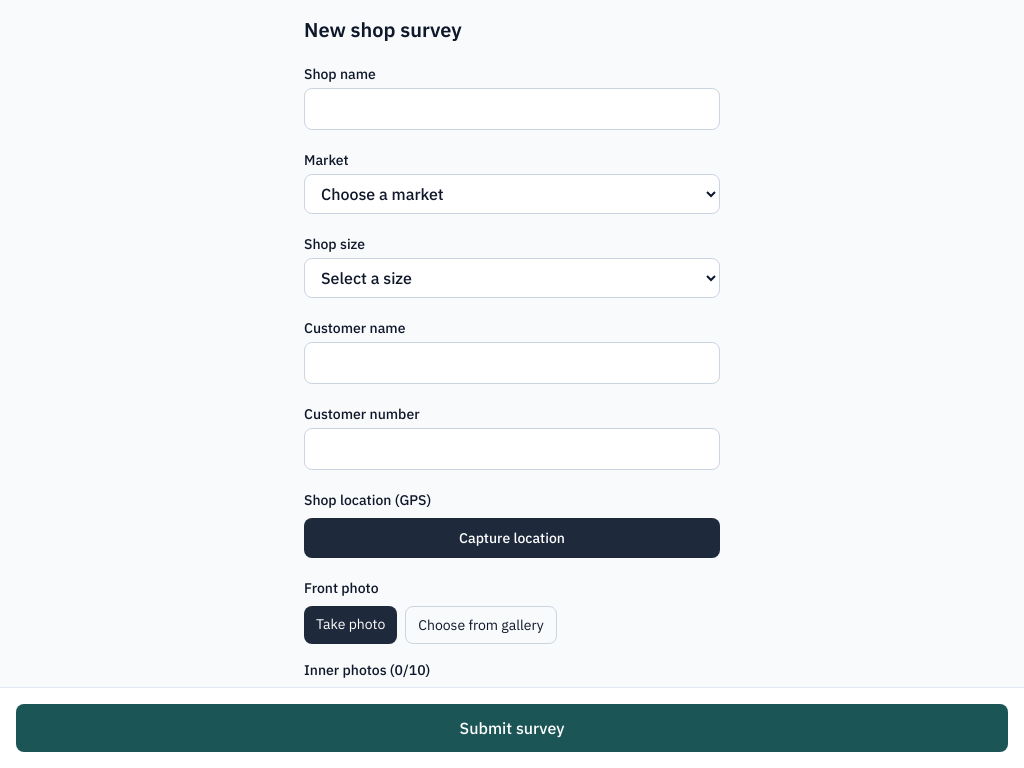
SurveyForm validation › blocks submit and shows errors when required fields are empty
The image size is (1024, 768).
Click the button "Submit survey". click: [512, 728]
box: [16, 704, 1008, 752]
(page scrolled)
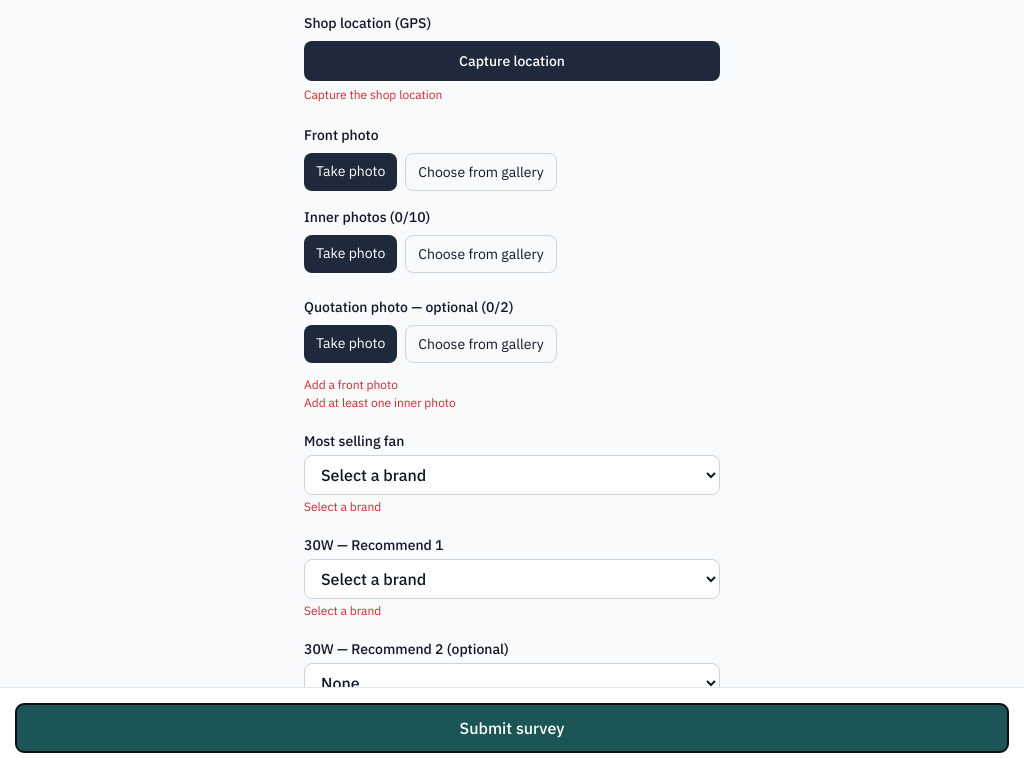
Now the text "Capture the shop location" is shown, box [304, 87, 442, 102]
Now the text "Add a front photo" is shown, box [304, 377, 398, 392]
